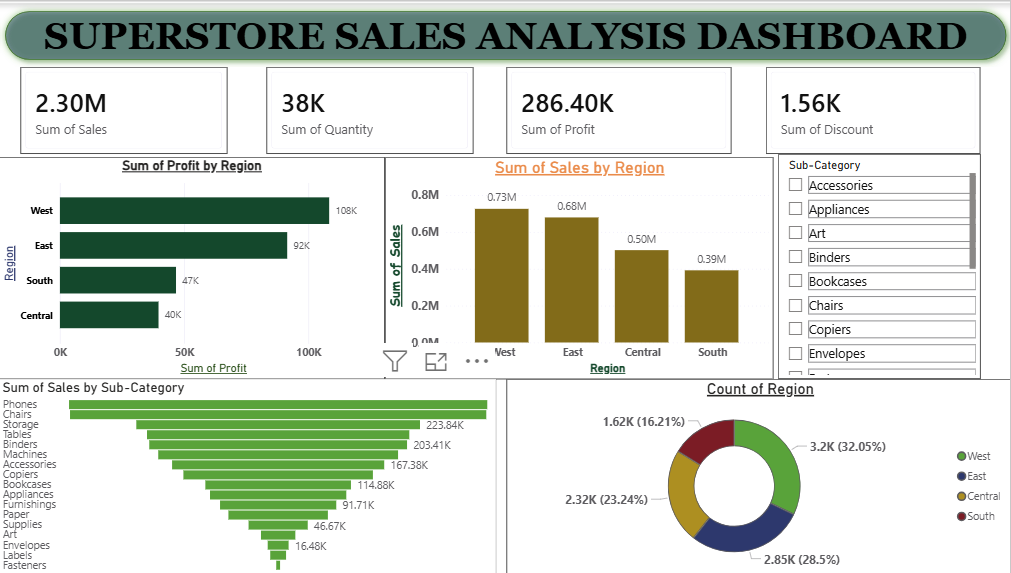

The dashboard page shown, as its layout file describes it:
{"tool":"powerbi","page":{"name":"Page 1","canvas":[1280,720],"ordinal":0},"visuals":[{"type":"barChart","fields":{"Category":["sample.Region"],"Y":["Sum(sample.Profit)"]},"box":[0,192.8,487.6,279.7],"z":0},{"type":"columnChart","fields":{"Category":["sample.Region"],"Y":["Sum(sample.Sales)"]},"box":[487.6,192.8,489.5,279.7],"z":1000},{"type":"funnel","fields":{"Category":["sample.Sub-Category"],"Y":["Sum(sample.Sales)"]},"box":[0,472.4,627.4,247.6],"z":2000},{"type":"donutChart","title":"Count of Region ","fields":{"Y":["CountNonNull(sample.Region)"],"Category":["sample.Region"]},"box":[640.6,472.4,638.7,247.6],"z":3000},{"type":"cardVisual","fields":{"Data":["Sum(sample.Sales)"]},"box":[28.3,79.4,260.8,109.6],"z":4000},{"type":"cardVisual","fields":{"Data":["Sum(sample.Quantity)"]},"box":[338.3,79.4,260.8,109.6],"z":5000},{"type":"cardVisual","fields":{"Data":["Sum(sample.Profit)"]},"box":[640.6,79.4,283.5,109.6],"z":6000},{"type":"cardVisual","fields":{"Data":["Sum(sample.Discount)"]},"box":[967.6,79.4,270.2,109.6],"z":7000},{"type":"slicer","fields":{"Values":["sample.Sub-Category"]},"box":[982.7,189,255.1,283.5],"z":8000},{"type":"shape","box":[0,0,1279.4,79.4],"z":9000}]}

Visuals, with their boxes in screenshot pixels (x1, y1, x2, y2), scaled from the page's 1280x720 canvas onto the 1011x573 screenshot:
barChart - sample.Region x Sum(sample.Profit): BBox(0, 153, 385, 376)
columnChart - sample.Region x Sum(sample.Sales): BBox(385, 153, 772, 376)
funnel - sample.Sub-Category x Sum(sample.Sales): BBox(0, 376, 496, 572)
"Count of Region " donutChart: BBox(506, 376, 1010, 572)
cardVisual - Sum(sample.Sales): BBox(22, 63, 228, 150)
cardVisual - Sum(sample.Quantity): BBox(267, 63, 473, 150)
cardVisual - Sum(sample.Profit): BBox(506, 63, 730, 150)
cardVisual - Sum(sample.Discount): BBox(764, 63, 978, 150)
slicer - sample.Sub-Category: BBox(776, 150, 978, 376)
shape: BBox(0, 0, 1010, 63)
